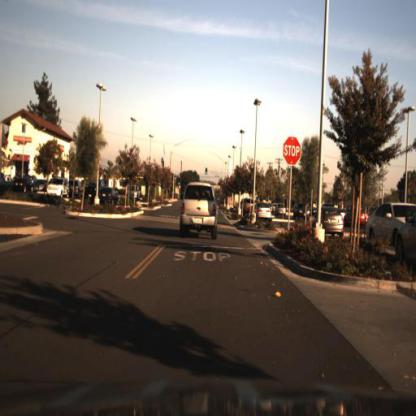car: (367, 201, 416, 263), (179, 182, 220, 246), (312, 198, 351, 244), (363, 202, 395, 251), (340, 204, 372, 230), (321, 208, 346, 239), (43, 176, 70, 199), (291, 200, 314, 226), (254, 198, 276, 223), (12, 177, 39, 195), (82, 177, 100, 203), (99, 185, 120, 206), (98, 184, 118, 206), (239, 197, 257, 219), (127, 183, 144, 206), (126, 184, 144, 205), (12, 175, 31, 193), (68, 176, 81, 198), (31, 175, 45, 193), (276, 201, 288, 222)
trafficLight-Green: (205, 168, 210, 180), (176, 180, 181, 190)
